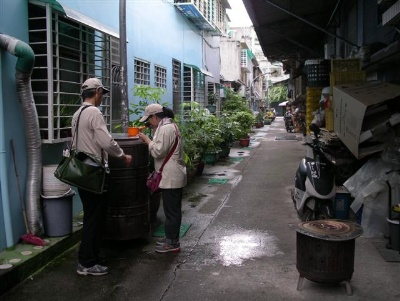bowl: (127, 126, 140, 138)
box: (333, 80, 400, 158)
bucket: (289, 219, 363, 291), (44, 195, 74, 237), (41, 164, 70, 195)
plastic_bag: (356, 163, 389, 233)
